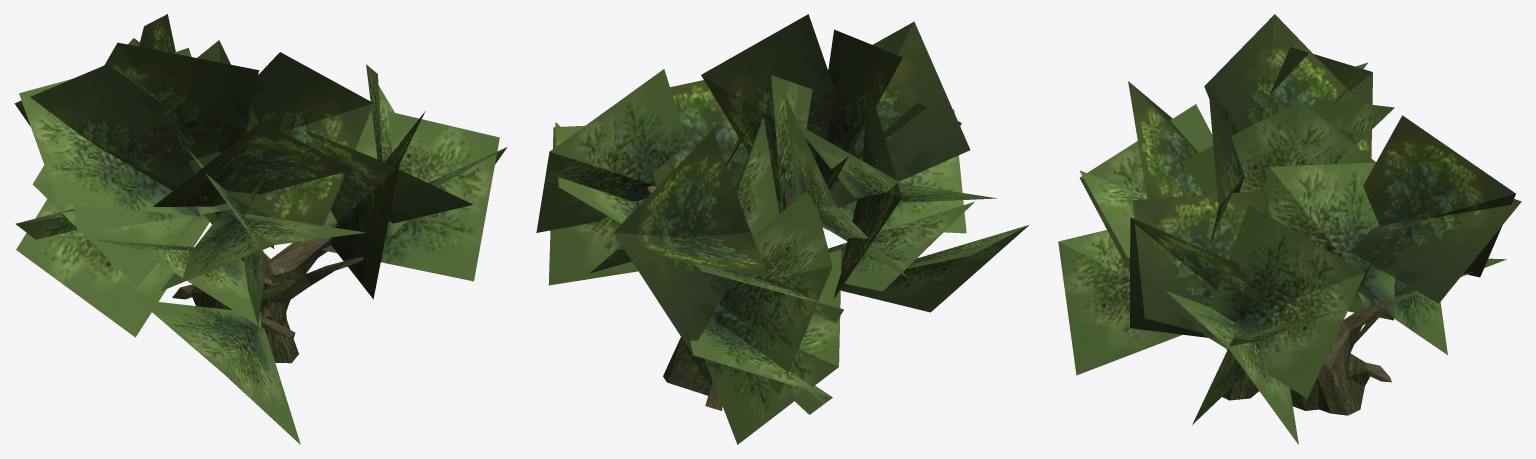
File: d_sd _zhiwu13_zw.FBX
The picture shows the model from 3 angles, left to right: view 1: azimuth 30°, elevation 25°; view 2: azimuth 150°, elevation 25°; view 3: azimuth 270°, elevation 25°; orthographic projection. The views are drawn at different scales.
Parts seen in each view (by area): view 1: d_sd _zhiwu13_zw_01A, d_sd _zhiwu13_zw_02B; view 2: d_sd _zhiwu13_zw_01A, d_sd _zhiwu13_zw_02B; view 3: d_sd _zhiwu13_zw_01A, d_sd _zhiwu13_zw_02B.
Part boxes in pixels (box(x1,y1,x2,y2)): d_sd _zhiwu13_zw_01A: box(14, 14, 507, 444); d_sd _zhiwu13_zw_02B: box(172, 190, 363, 363); d_sd _zhiwu13_zw_01A: box(536, 14, 1028, 444); d_sd _zhiwu13_zw_02B: box(647, 184, 791, 410); d_sd _zhiwu13_zw_01A: box(1058, 14, 1521, 444); d_sd _zhiwu13_zw_02B: box(1127, 300, 1391, 415).
Bounding box in the file's own units: 221 × 165 × 213.
